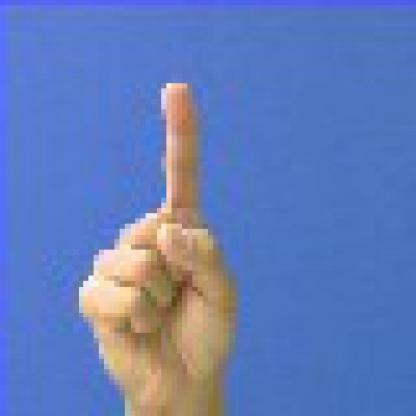one: (67, 73, 250, 411)
